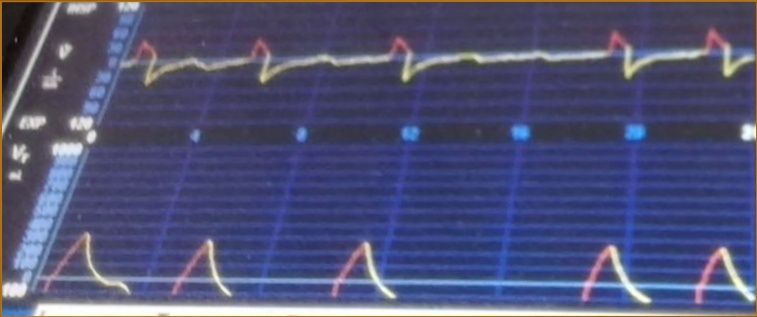Ineffective_effort Flow: (131, 19, 755, 98)
Ineffective_effort Volume: (44, 223, 752, 303)
